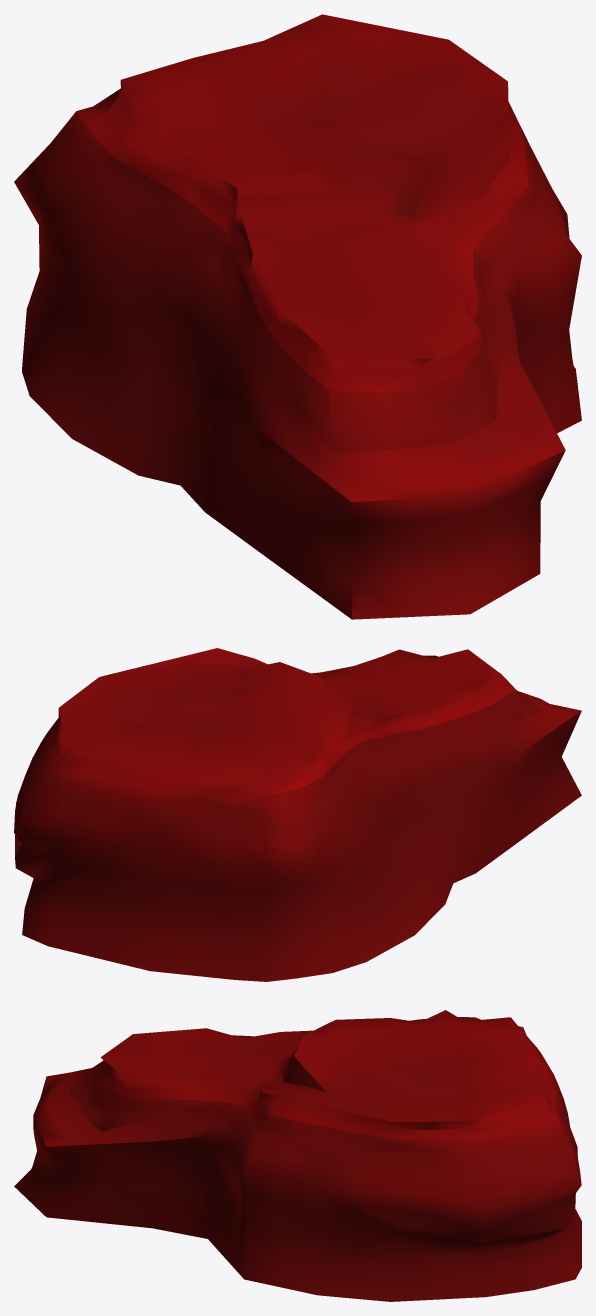
File: geology-rocks-sharprock_v3.fbx
3 views of the same model, one above another, from view 1: azimuth 30°, elevation 25°; view 2: azimuth 150°, elevation 25°; view 3: azimuth 270°, elevation 25° (orthographic). The views are drawn at different scales.
Parts seen in each view (by area): view 1: SharpRock_v3; view 2: SharpRock_v3; view 3: SharpRock_v3.
Part boxes in pixels (x1,y1,x2,y2): SharpRock_v3: (14, 14, 581, 619); SharpRock_v3: (14, 648, 581, 981); SharpRock_v3: (14, 1010, 581, 1301).
Size of the model in its own units: 3.85 by 2.34 by 5.84.
